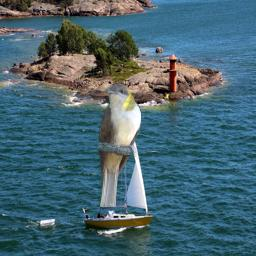Cuckoo: (96, 83, 141, 207)
